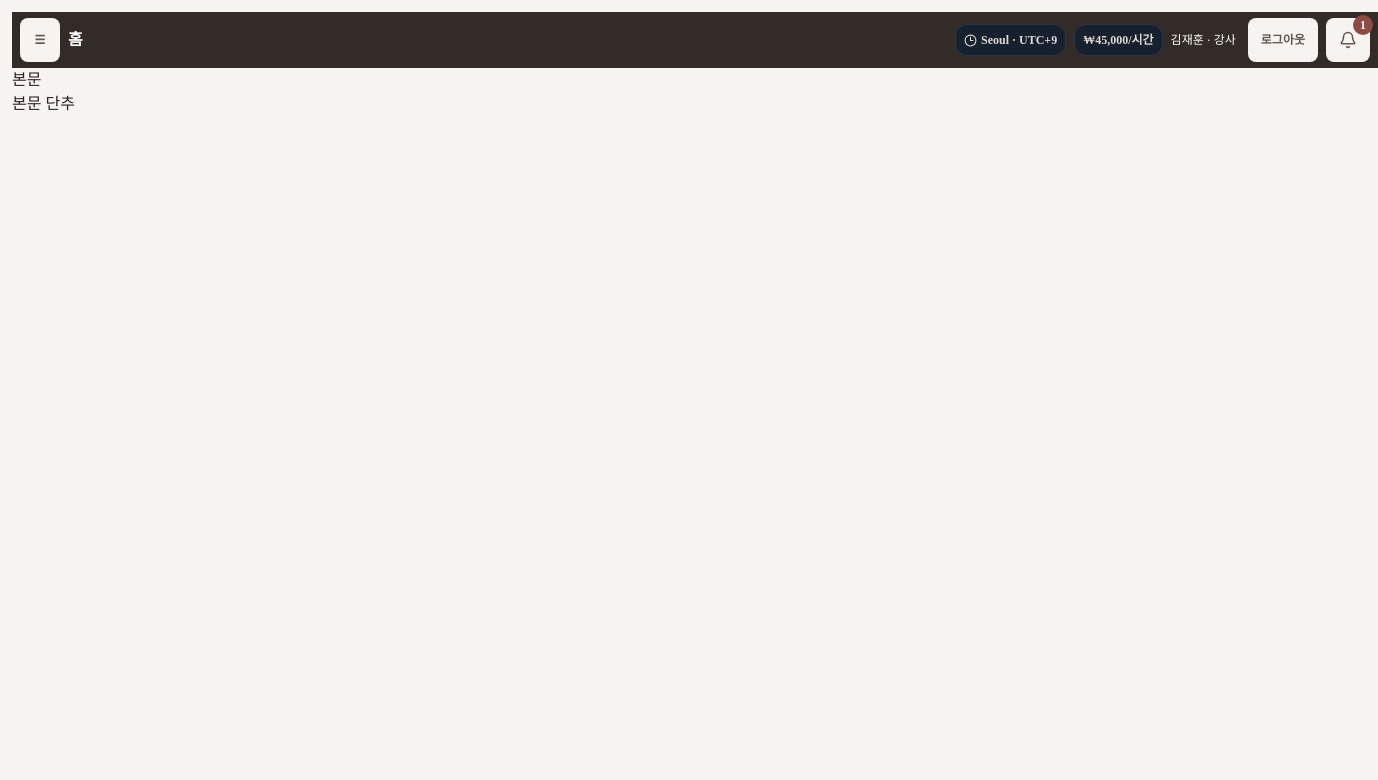
Menu panel — 강사 메뉴 7개 (Figma Teacher/Navigation 7681:21765) › ☰ 을 누르면 패널이 열리고 navigation.ts 의 강사 메뉴 7개를 같은 차례로 그린다
The image size is (1378, 780).
Click the button named "메뉴" at [40, 40], box [20,18,60,62]
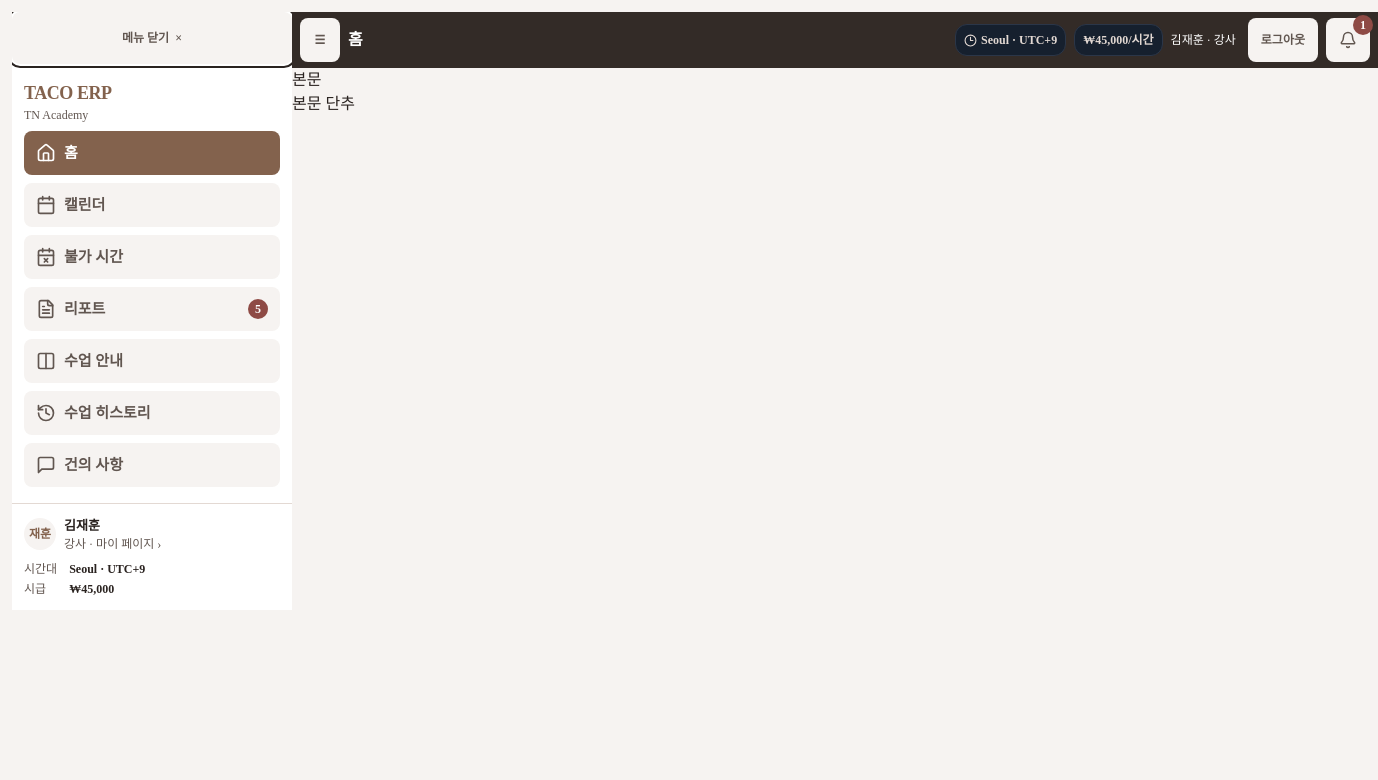
Now the button named "메뉴" is expanded, box [300,18,340,62]
